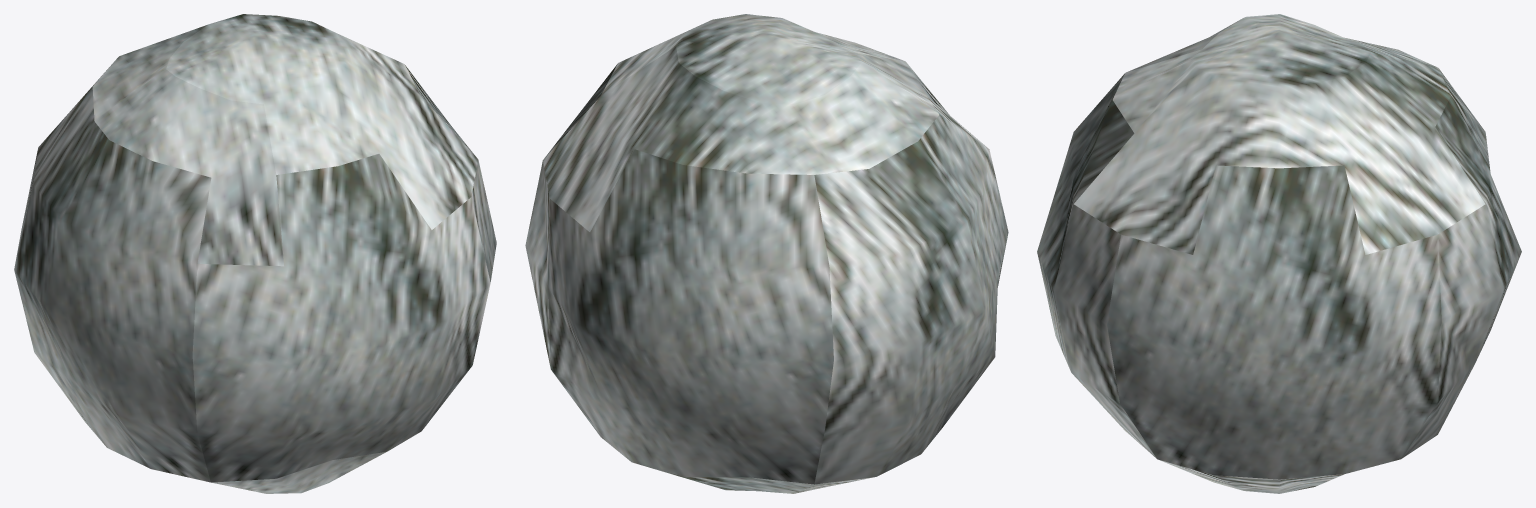
The model's file is paper_parts.glb.
3 renders of one model, left to right at view 1: azimuth 30°, elevation 25°; view 2: azimuth 150°, elevation 25°; view 3: azimuth 270°, elevation 25°, orthographic.
Visible parts, largest first — view 1: paper_ball.col.003, paper_ball.col.004, paper_ball.col.001, paper_ball.col.002, paper_ball.col.007, paper_ball.col.005; view 2: paper_ball.col.006, paper_ball.col.004, paper_ball.col.002, paper_ball.col.001, paper_ball.col.005, paper_ball.col.007; view 3: paper_ball.col.005, paper_ball.col.001, paper_ball.col.002, paper_ball.col.003, paper_ball.col.006, paper_ball.col.007.
Part boxes in pixels (<box>): paper_ball.col.003: <box>192,154,490,482</box>; paper_ball.col.004: <box>14,87,211,482</box>; paper_ball.col.001: <box>166,14,478,229</box>; paper_ball.col.002: <box>92,24,283,266</box>; paper_ball.col.007: <box>212,451,386,493</box>; paper_ball.col.005: <box>405,65,496,281</box>; paper_ball.col.006: <box>548,149,833,484</box>; paper_ball.col.004: <box>814,97,1008,484</box>; paper_ball.col.002: <box>543,46,970,231</box>; paper_ball.col.001: <box>601,14,903,104</box>; paper_ball.col.005: <box>525,64,617,367</box>; paper_ball.col.007: <box>641,465,874,493</box>; paper_ball.col.005: <box>1107,165,1441,479</box>; paper_ball.col.001: <box>1074,14,1370,254</box>; paper_ball.col.002: <box>1126,18,1485,254</box>; paper_ball.col.003: <box>1037,73,1156,458</box>; paper_ball.col.006: <box>1401,69,1521,458</box>; paper_ball.col.007: <box>1158,459,1344,493</box>.
Bounding box in the file's own units: 2 × 1.94 × 2.
Materials: 1 (1 with a texture image).
